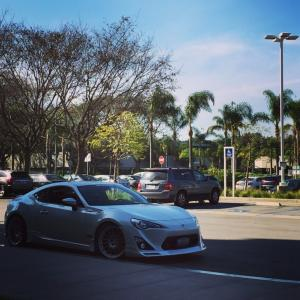Vehicle-registration-plate: (179, 239, 190, 250), (148, 185, 155, 190)
